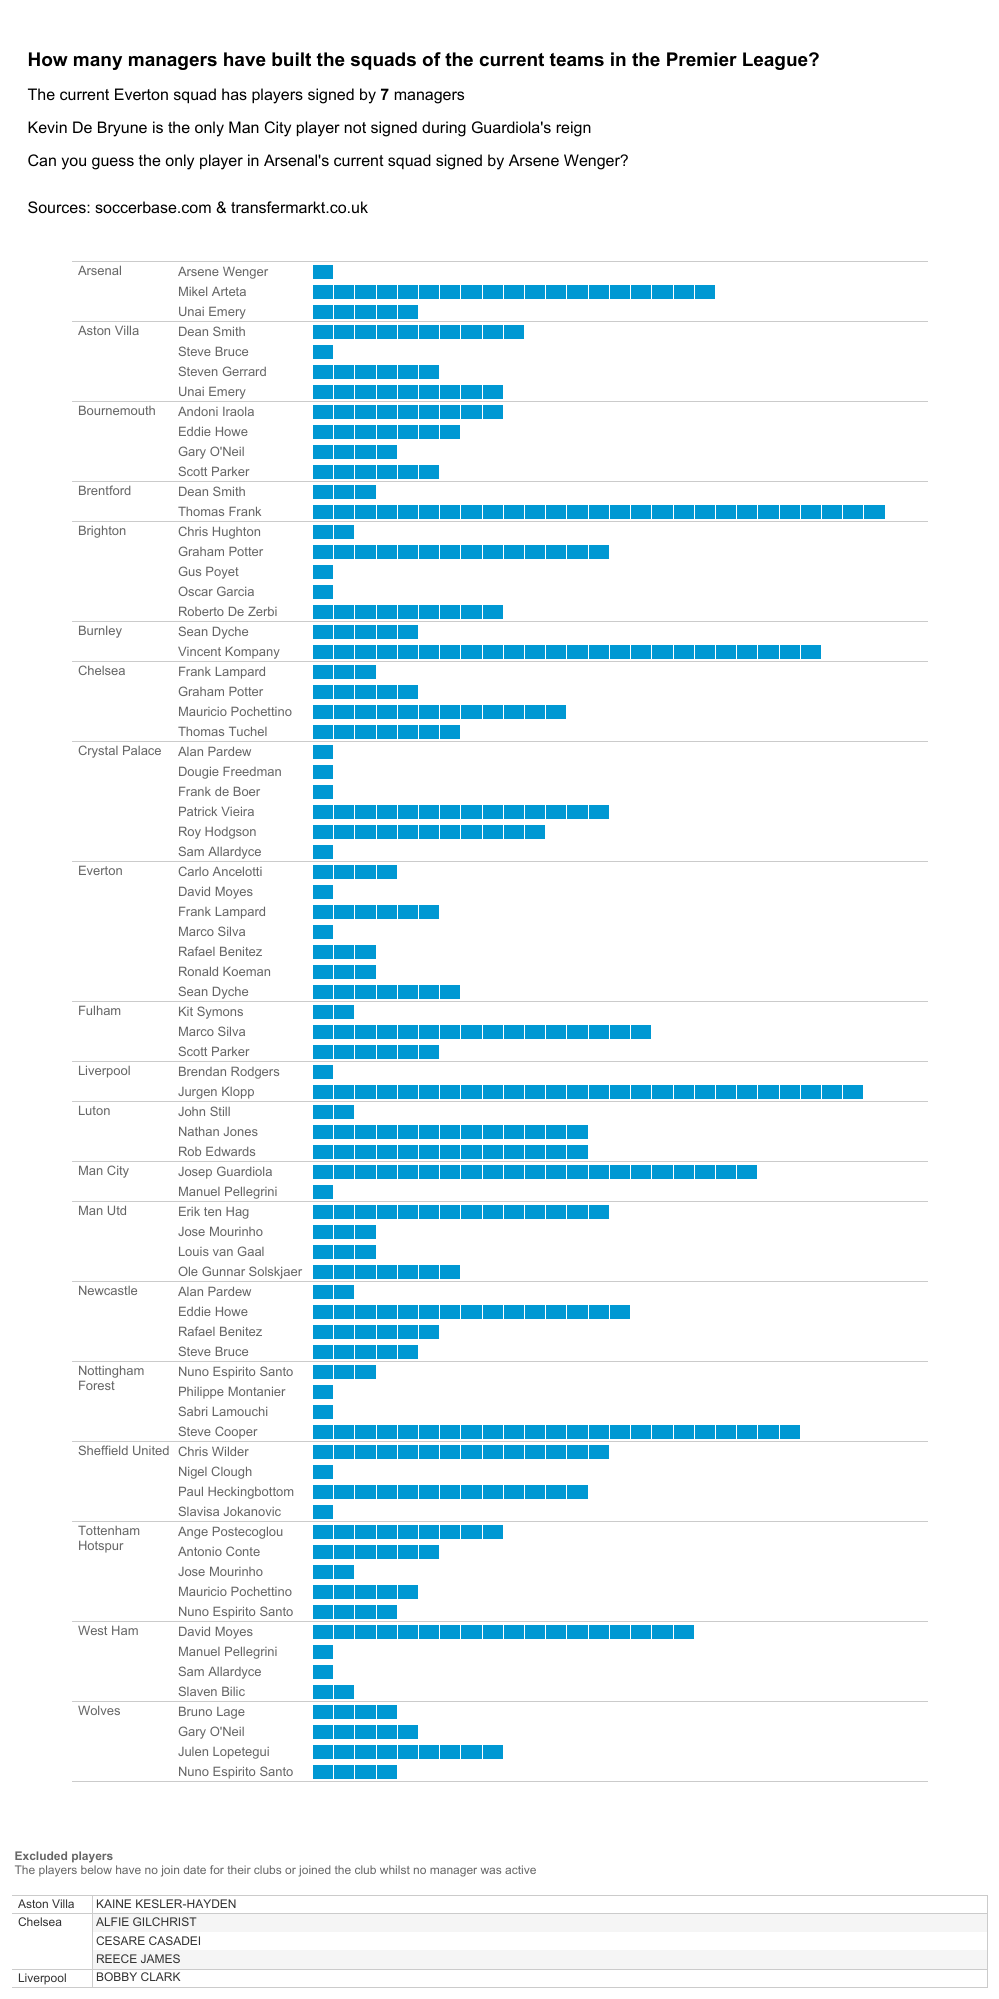

Layout of this report page (visuals, bound fields, positions):
{"tool":"tableau","page":{"name":"Squads","canvas":[1000,2000],"ordinal":0},"visuals":[{"type":"text","box":[8,8,984,253]},{"type":"blank","box":[700,164,291,84]},{"type":"image","box":[719,194,82.7,47]},{"type":"image","box":[801.7,194,82.7,47]},{"type":"image","box":[884.3,194,82.7,47]},{"type":"worksheet","title":"all","mark":"Automatic","rows":["F3","manager"],"cols":["F1"],"box":[8,261,984,1573]},{"type":"text","box":[8,1834,984,56.9]},{"type":"worksheet","title":"Sheet 2","mark":"Automatic","rows":["F3","F1"],"box":[8,1890.9,984,101.1]}]}

Visuals, with their boxes in screenshot pixels (x1, y1, x2, y2), scaled from the page's 1000x2000 canvas onto the 999x1999 screenshot:
text: (8, 8, 991, 261)
blank: (699, 164, 990, 248)
image: (718, 194, 801, 241)
image: (801, 194, 884, 241)
image: (883, 194, 966, 241)
"all" worksheet: (8, 261, 991, 1833)
text: (8, 1833, 991, 1890)
"Sheet 2" worksheet: (8, 1890, 991, 1991)
